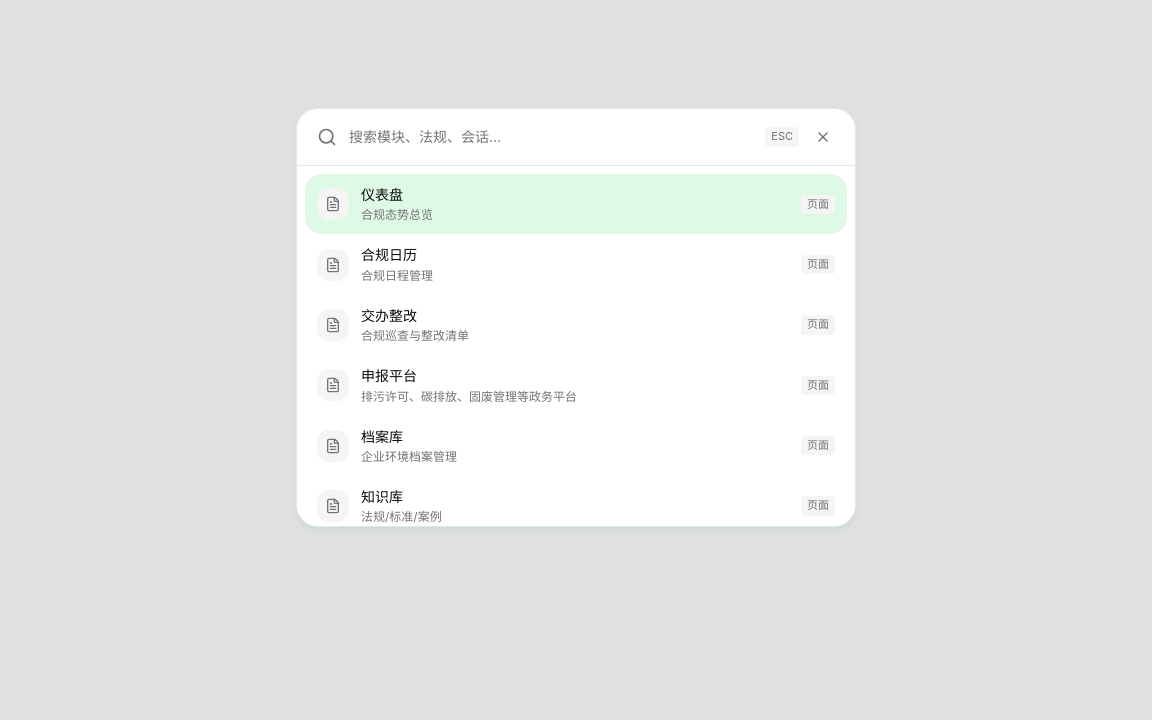
Scenario: GlobalSearch › filtering › shows no items when nothing matches
Type "zzznotfound" into the field with placeholder "搜索模块、法规、会话..." at [551, 137], box [349,126,753,148]
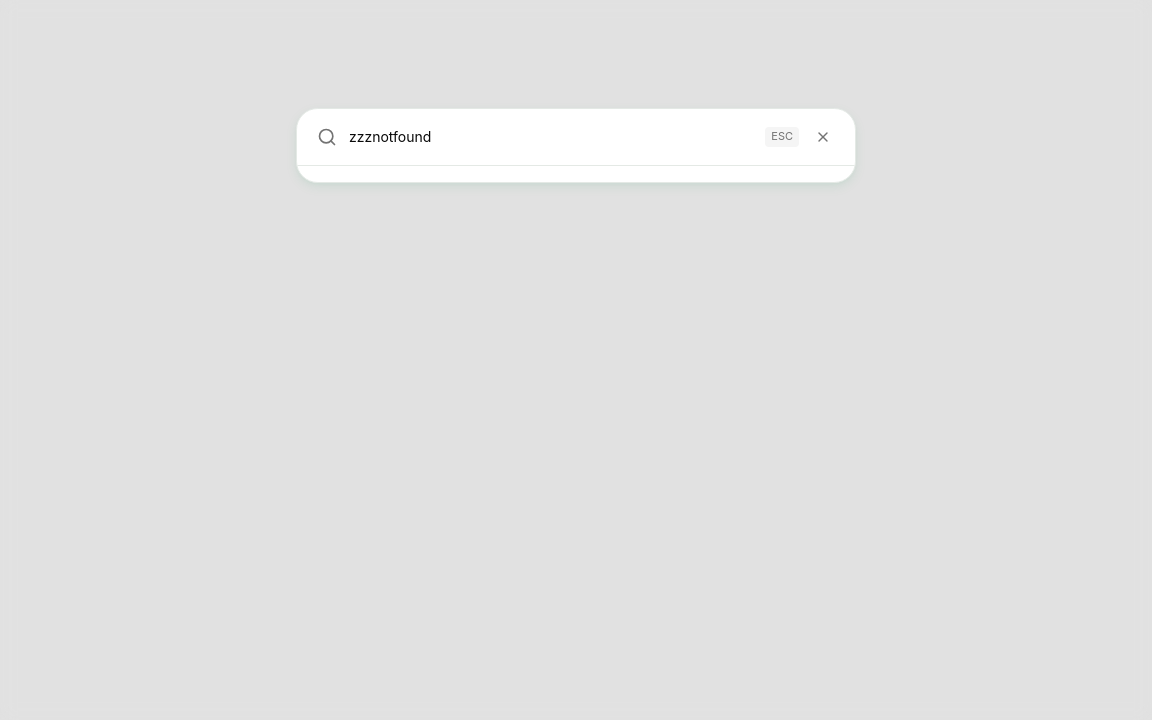
Expected: the text "排污许可管理条例" is not shown
Result: the button "仪表盘" is gone
